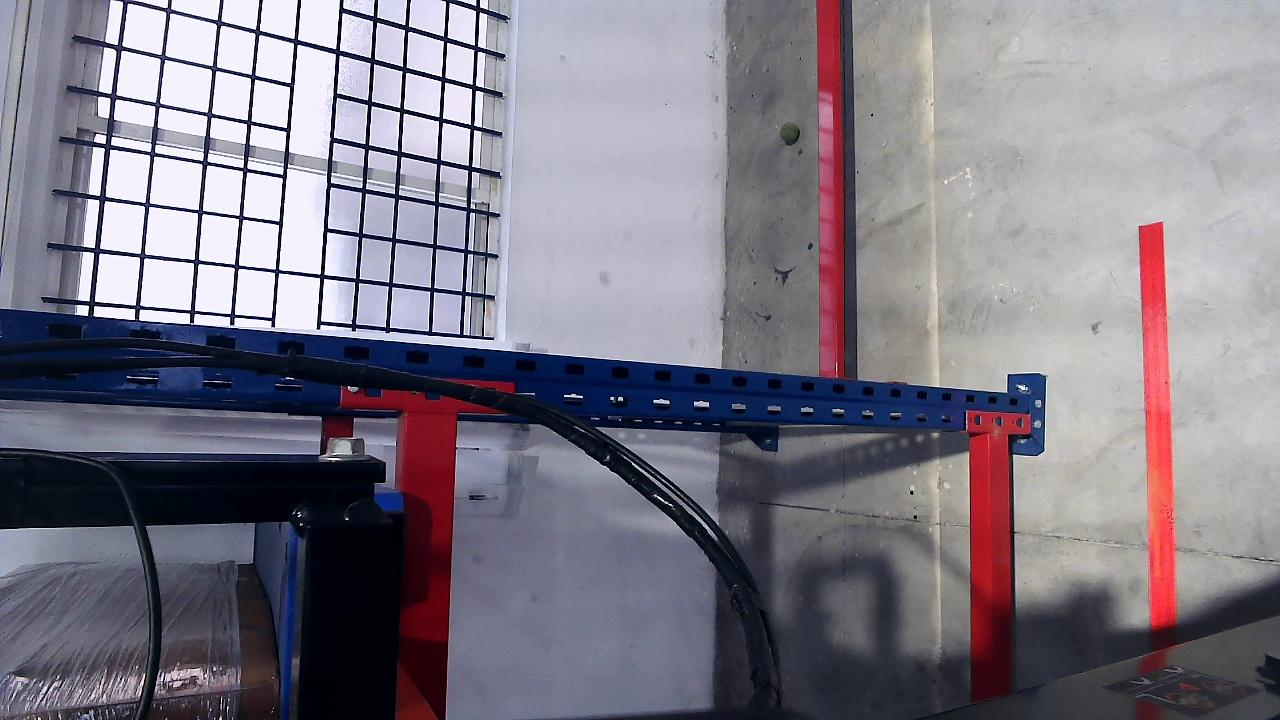h_rack: (419, 410, 460, 719), (815, 0, 842, 373), (968, 433, 1002, 704)
red_line: (1138, 223, 1177, 631)
